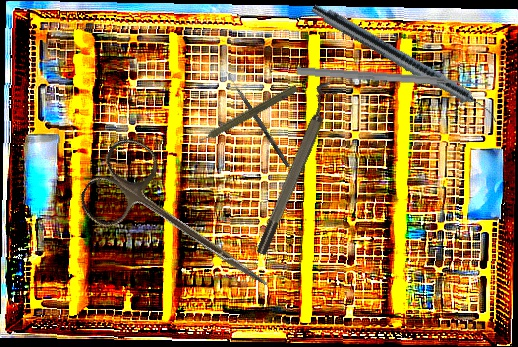Fixation Ring: (245, 78, 344, 258)
Handpiece: (307, 0, 504, 126), (189, 80, 300, 150)
Hook Surgical: (223, 71, 292, 168)
Iris Scissors: (72, 130, 295, 320)
Pusher: (296, 65, 492, 91)
